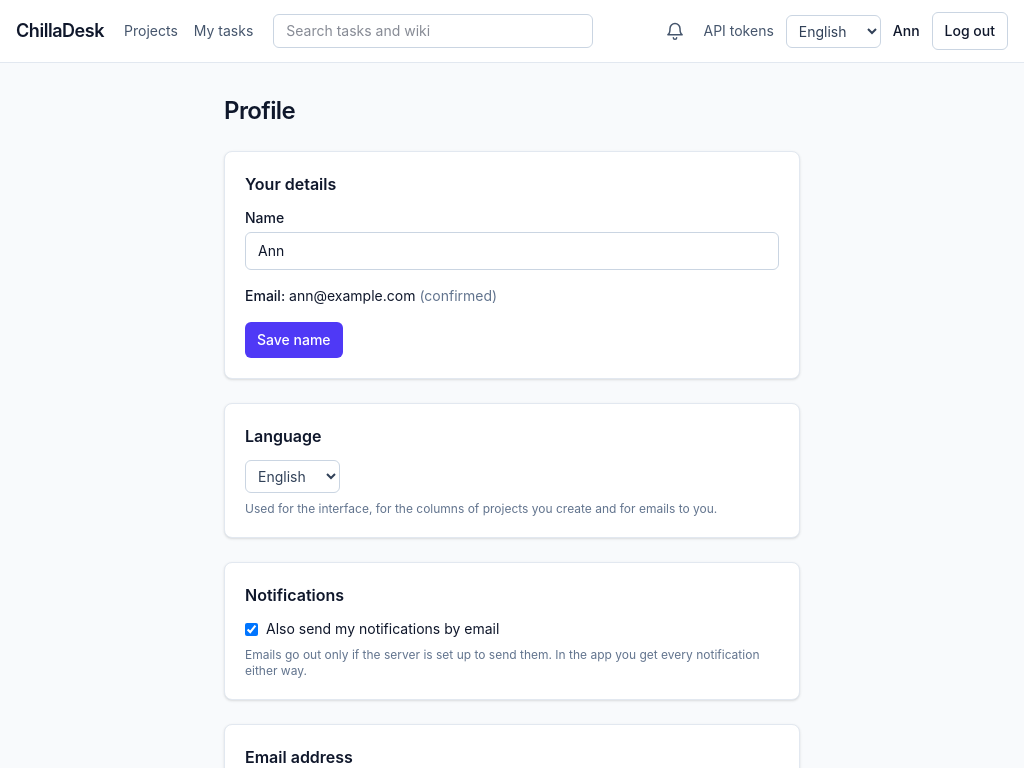
Test: the profile page › saves a new name and shows it in the header
Replace the text in the field labelled "Name" with "Ann Lee" at x=512, y=251, box [245,232,779,270]
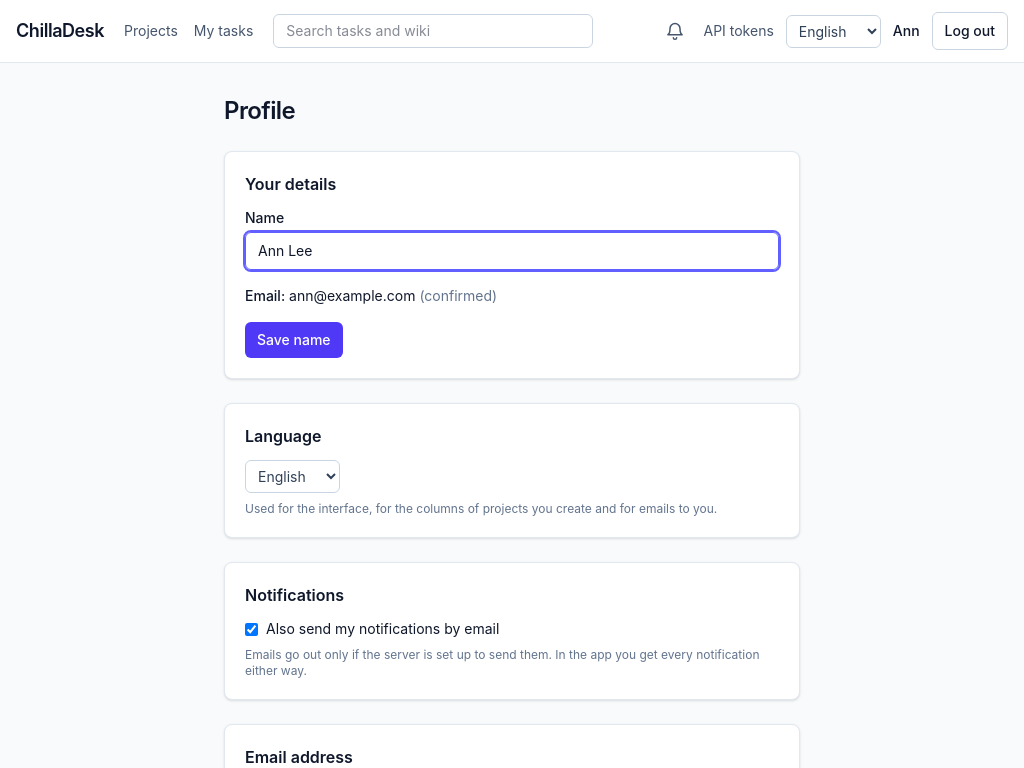
Click the button "Save name" at x=294, y=340, box [245,322,342,358]
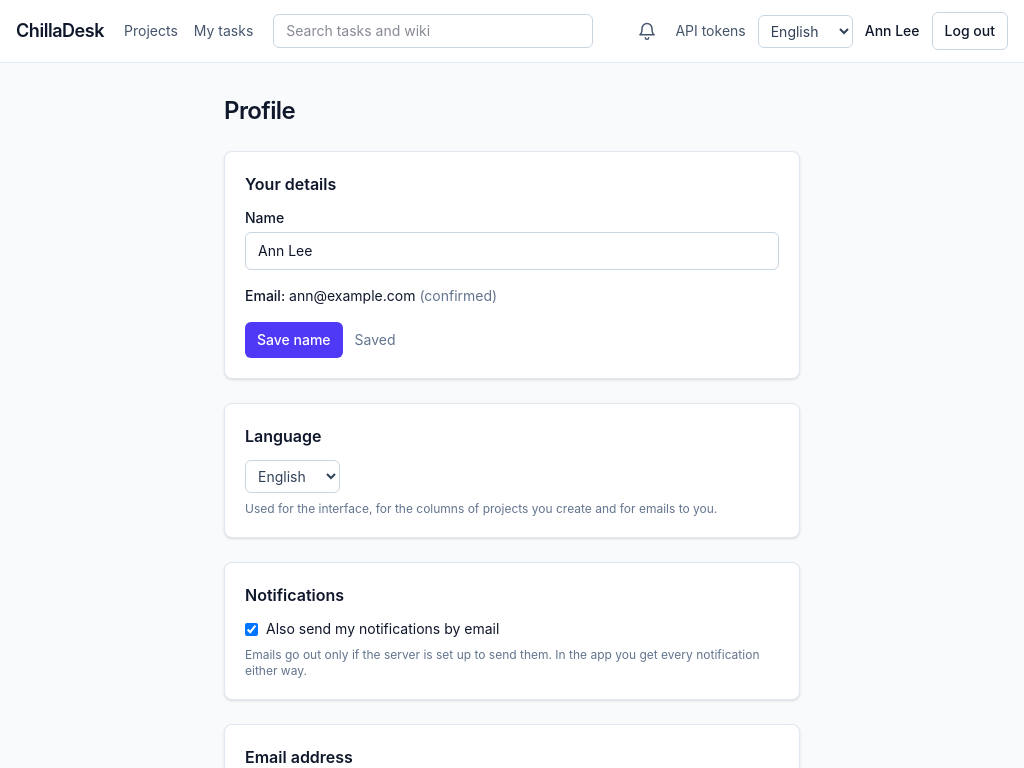
Check: the link with aria-label "Profile of Ann Lee" is shown, box [865,21,920,41]
Check: the text "Saved" is shown, box [354,330,396,350]
